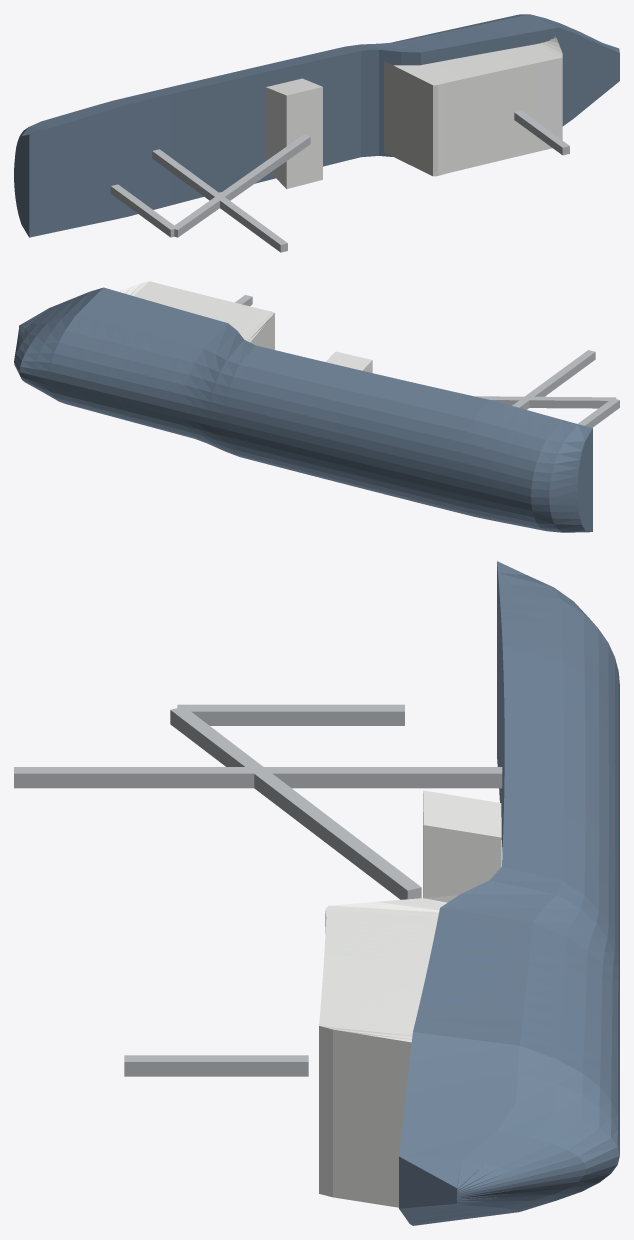
The model's file is loft-restricted-ability-slender.glb.
3 views of the same model, one above another, from view 1: azimuth 30°, elevation 25°; view 2: azimuth 150°, elevation 25°; view 3: azimuth 270°, elevation 25° (orthographic). The views are drawn at different scales.
Parts seen in each view (by area): view 1: restricted-ability-loft-slender; view 2: restricted-ability-loft-slender; view 3: restricted-ability-loft-slender.
Boxes of the visible parts, x1,y1,x2,y2 form: restricted-ability-loft-slender: (14, 14, 619, 252); restricted-ability-loft-slender: (14, 281, 619, 532); restricted-ability-loft-slender: (14, 561, 619, 1225).
Bounding box in the file's own units: 1.9 × 0.3517 × 0.9058.
